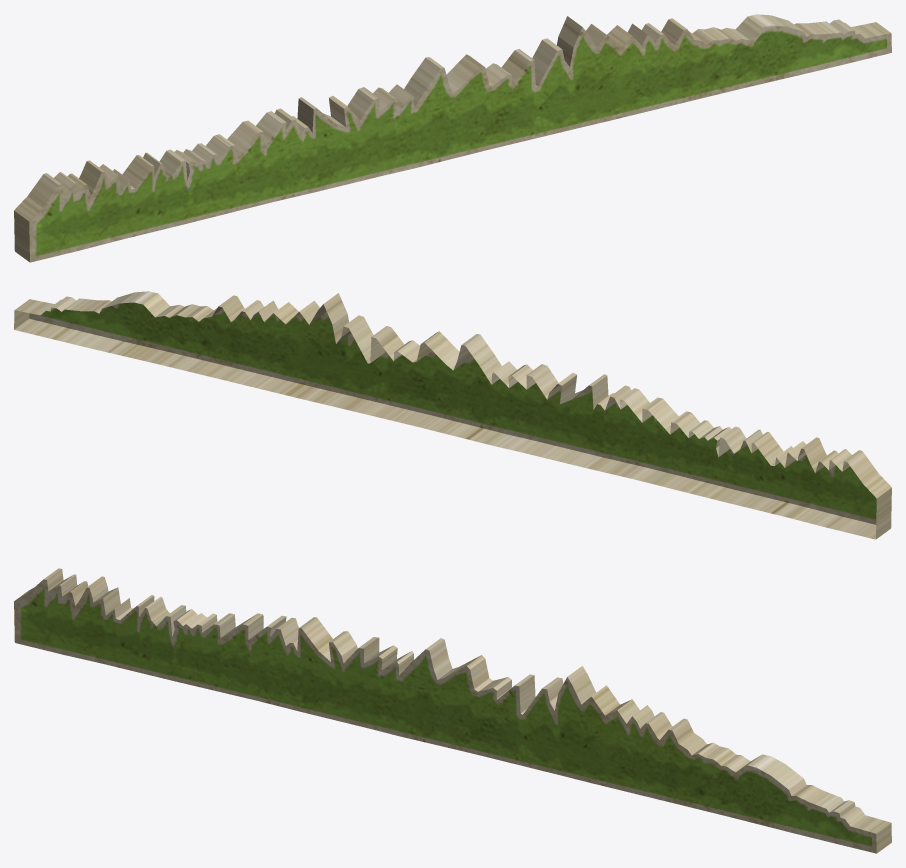
Rendered from plant05.FBX.
3 renders of one model, top to bottom at view 1: azimuth 30°, elevation 25°; view 2: azimuth 150°, elevation 25°; view 3: azimuth 330°, elevation 25°, orthographic.
Parts seen in each view (by area): view 1: Plane02; view 2: Plane02; view 3: Plane02.
Boxes of the visible parts, x1,y1,x2,y2 form: Plane02: [14, 14, 891, 262]; Plane02: [14, 291, 891, 539]; Plane02: [14, 568, 891, 853].
Bounding box in the file's own units: 107 × 11.99 × 3.26.
1 material, 1 textured.
